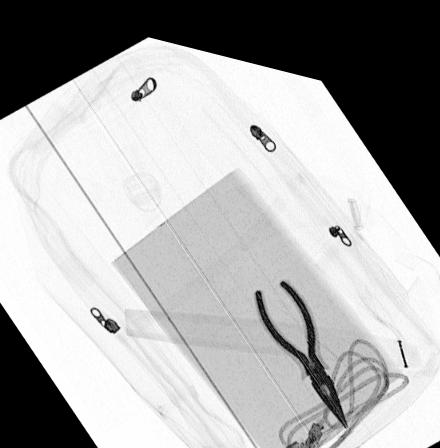Pliers: (250, 261, 349, 412)
